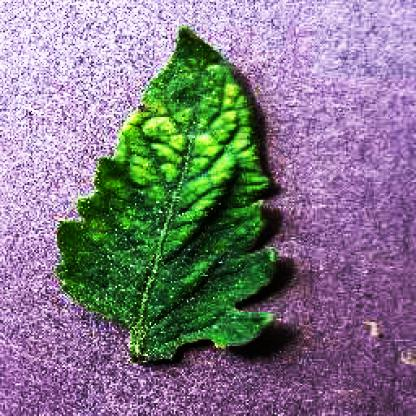Virus: (52, 21, 292, 364)
